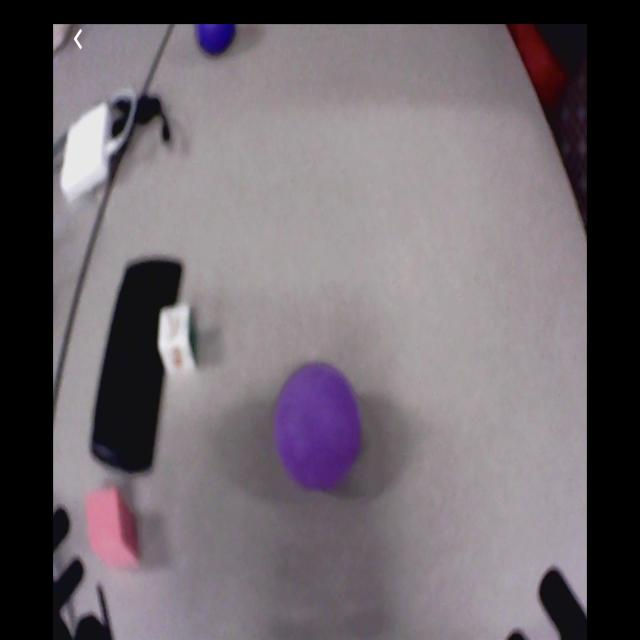ball: (276, 364, 360, 487), (194, 23, 236, 58)
